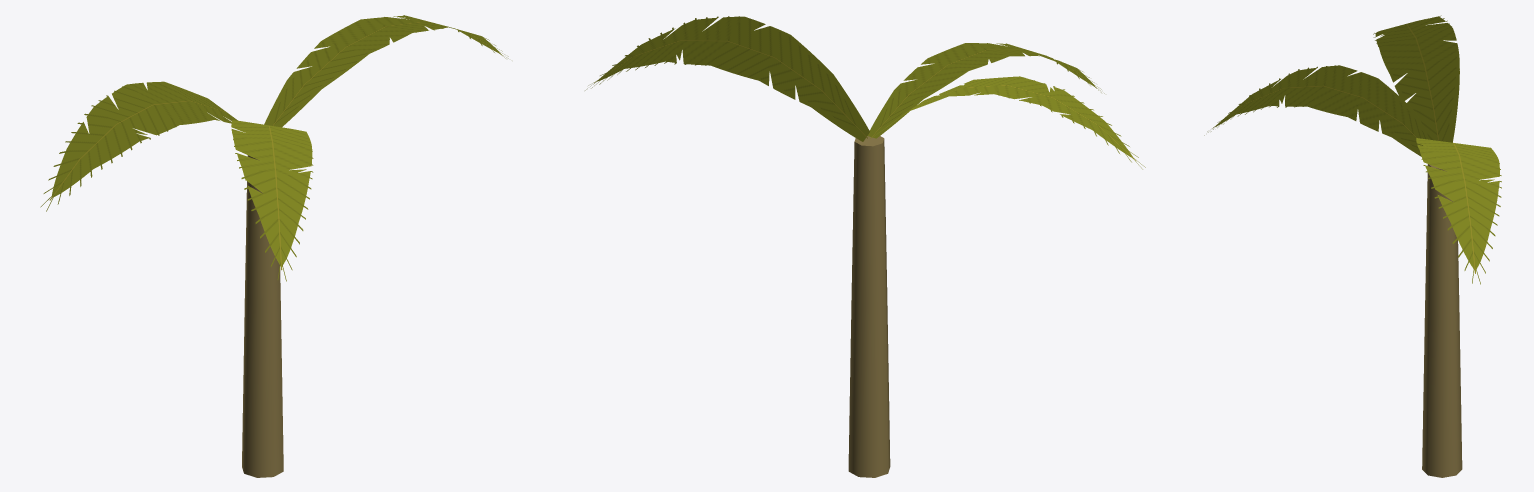
Rendered from banana_plant_1_burnt1.glb.
3 renders of one model, left to right at view 1: azimuth 30°, elevation 25°; view 2: azimuth 150°, elevation 25°; view 3: azimuth 270°, elevation 25°, orthographic. The views are drawn at different scales.
Visible parts, largest first — view 1: banana_plant_1_burnt1; view 2: banana_plant_1_burnt1; view 3: banana_plant_1_burnt1.
Part boxes in pixels (x1=…): banana_plant_1_burnt1: x1=40, y1=15, x2=508, y2=477; banana_plant_1_burnt1: x1=585, y1=16, x2=1145, y2=477; banana_plant_1_burnt1: x1=1204, y1=15, x2=1501, y2=477.
Bounding box in the file's own units: 3.92 × 2.94 × 2.32.
2 materials, 1 textured.
